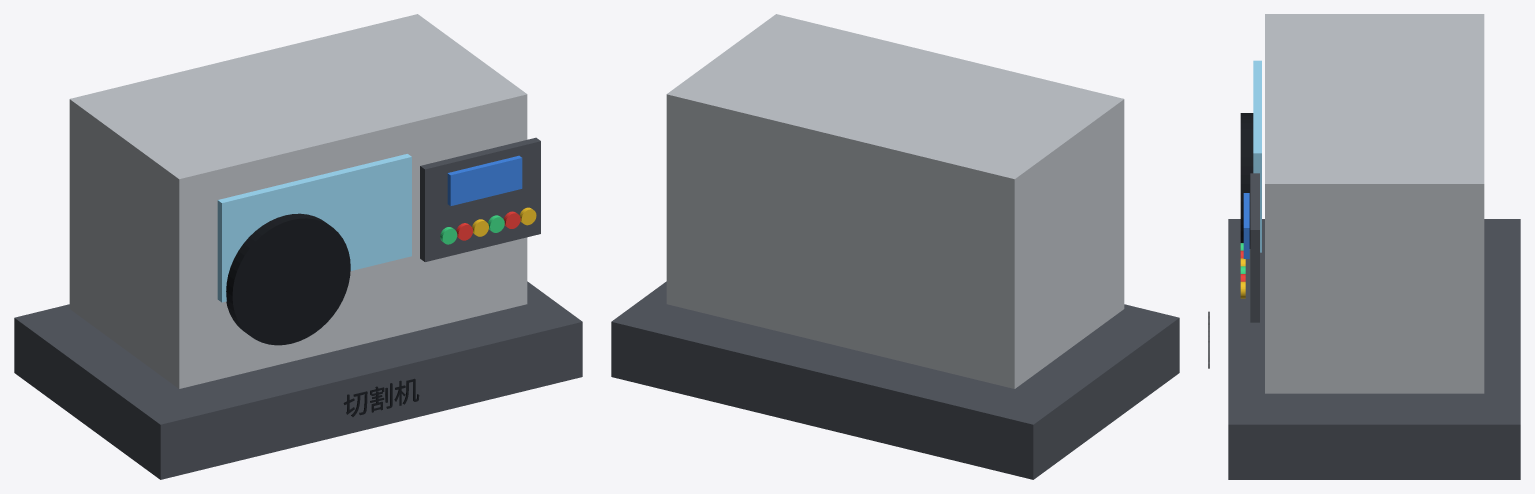
Rendered from asset_rock_cutter.glb.
3 renders of one model, left to right at view 1: azimuth 30°, elevation 25°; view 2: azimuth 150°, elevation 25°; view 3: azimuth 270°, elevation 25°, orthographic.
Parts seen in each view (by area): view 1: enclosure, machine_base, front_window, cutting_disc, cut_panel, cut_screen, asset_label; view 2: enclosure, machine_base; view 3: enclosure, machine_base, cut_panel, cutting_disc, front_window, cut_screen.
Boxes of the visible parts, box(x1,y1,x2,y2) form: enclosure: box(69, 14, 527, 388); machine_base: box(14, 281, 582, 479); front_window: box(217, 154, 411, 302); cutting_disc: box(226, 213, 350, 345); cut_panel: box(420, 137, 540, 261); cut_screen: box(447, 155, 522, 206); asset_label: box(343, 378, 419, 416); enclosure: box(666, 14, 1124, 388); machine_base: box(611, 281, 1179, 479); enclosure: box(1265, 14, 1484, 393); machine_base: box(1228, 219, 1520, 479); cut_panel: box(1250, 173, 1259, 322); cutting_disc: box(1240, 113, 1253, 248); front_window: box(1253, 60, 1261, 252); cut_screen: box(1243, 193, 1249, 258).
Size of the model in its own units: 2 by 1.26 by 1.28.
